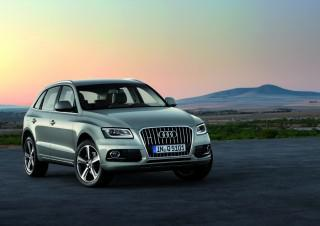Audi: (155, 128, 180, 141)
